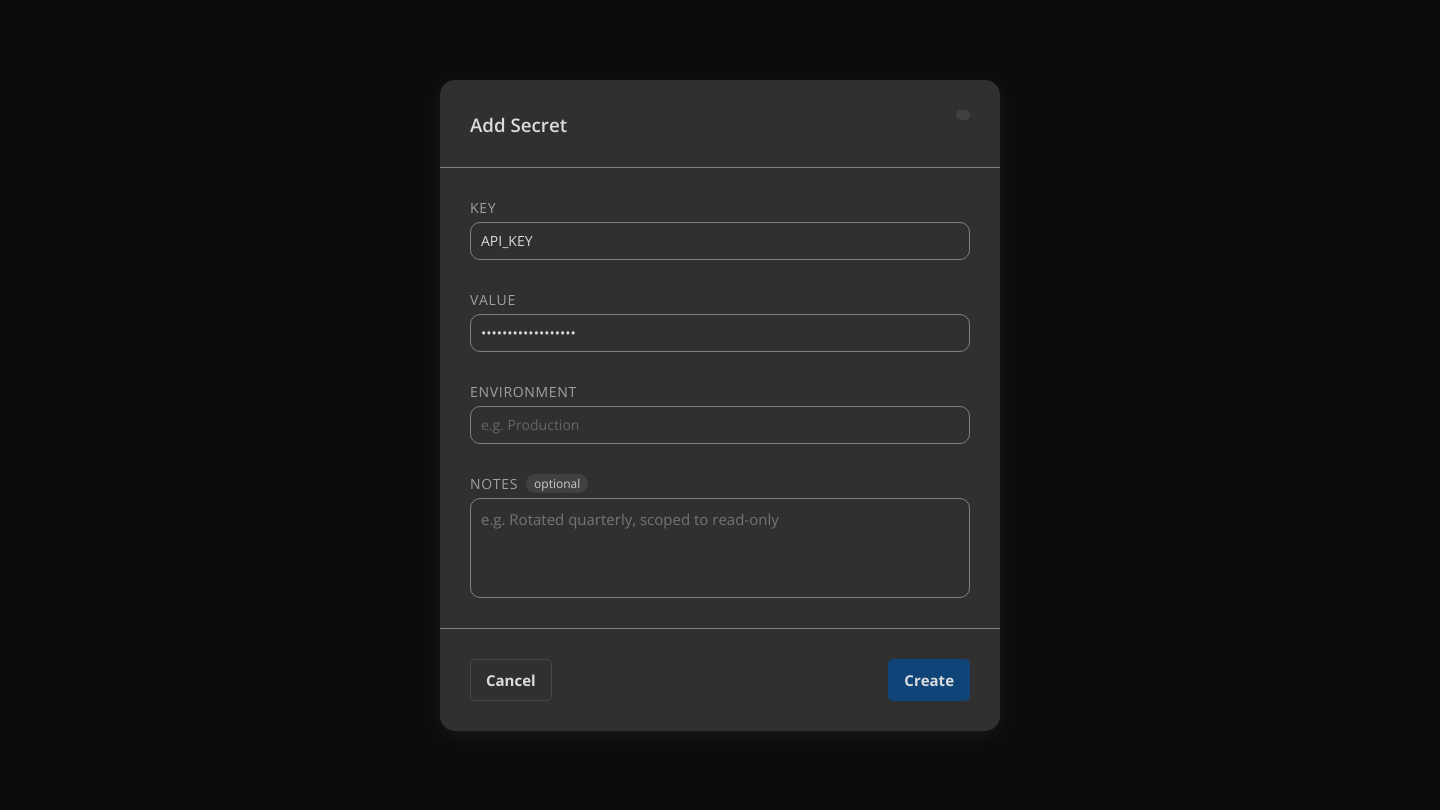
it: the environment autocomplete › matches on a substring, not just a prefix
Type "elop" into the field with placeholder "e.g. Production" at x=720, y=424, box left=470, top=406, right=970, bottom=444
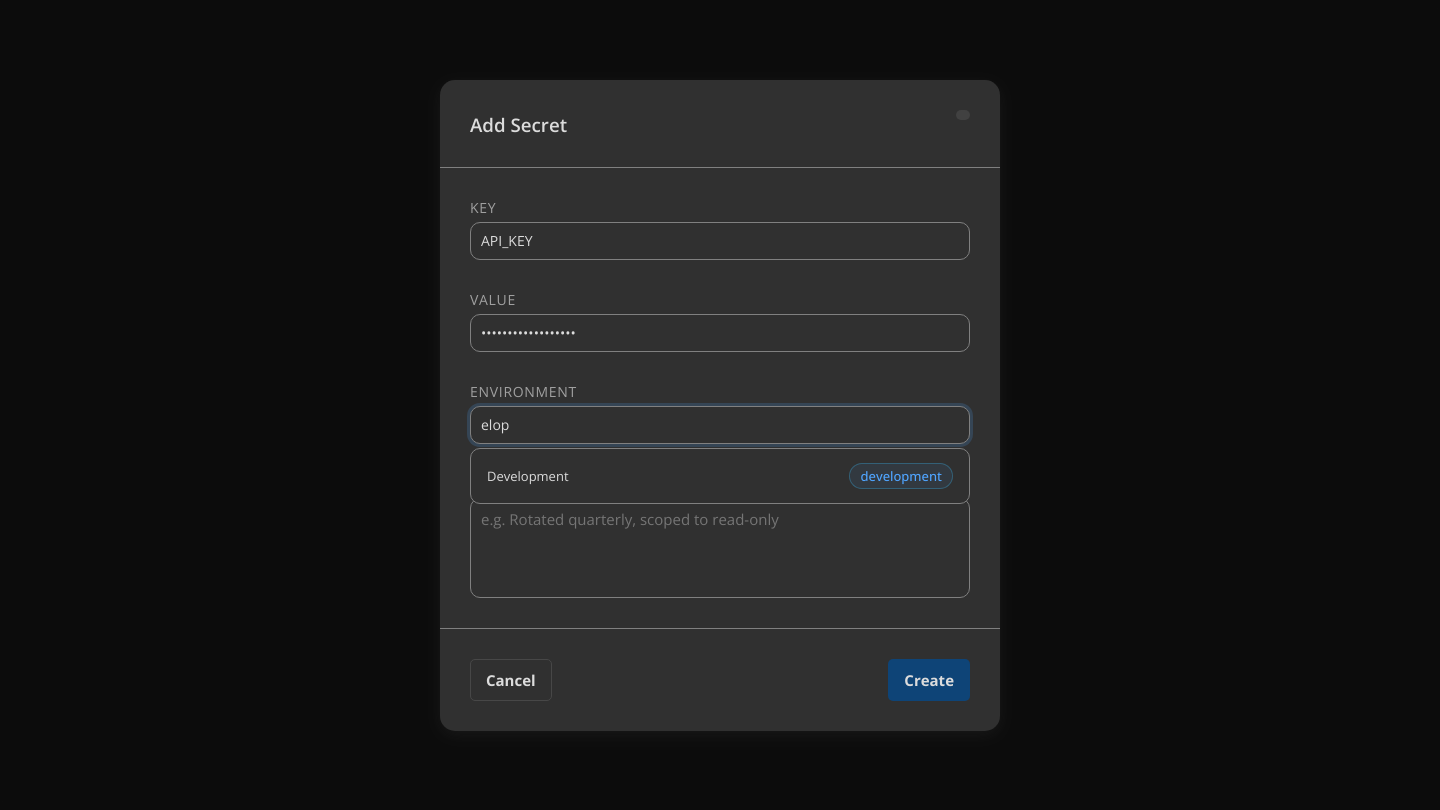
Result: the text "Development" is shown at left=487, top=467, right=568, bottom=485
